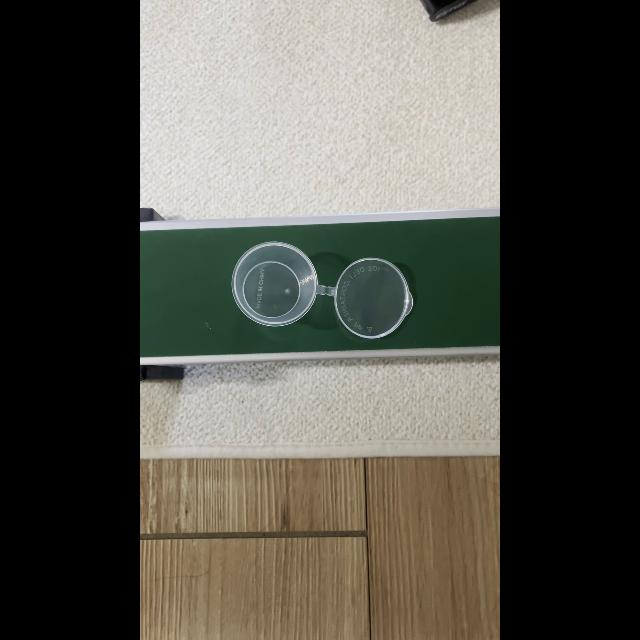clean: (234, 242, 416, 338)
